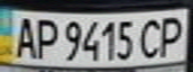1: (100, 17, 118, 61)
4: (81, 17, 100, 62)
5: (115, 17, 139, 61)
9: (57, 17, 84, 62)
A: (9, 12, 39, 60)
C: (136, 15, 166, 60)
P: (154, 12, 190, 57), (30, 15, 60, 61)
